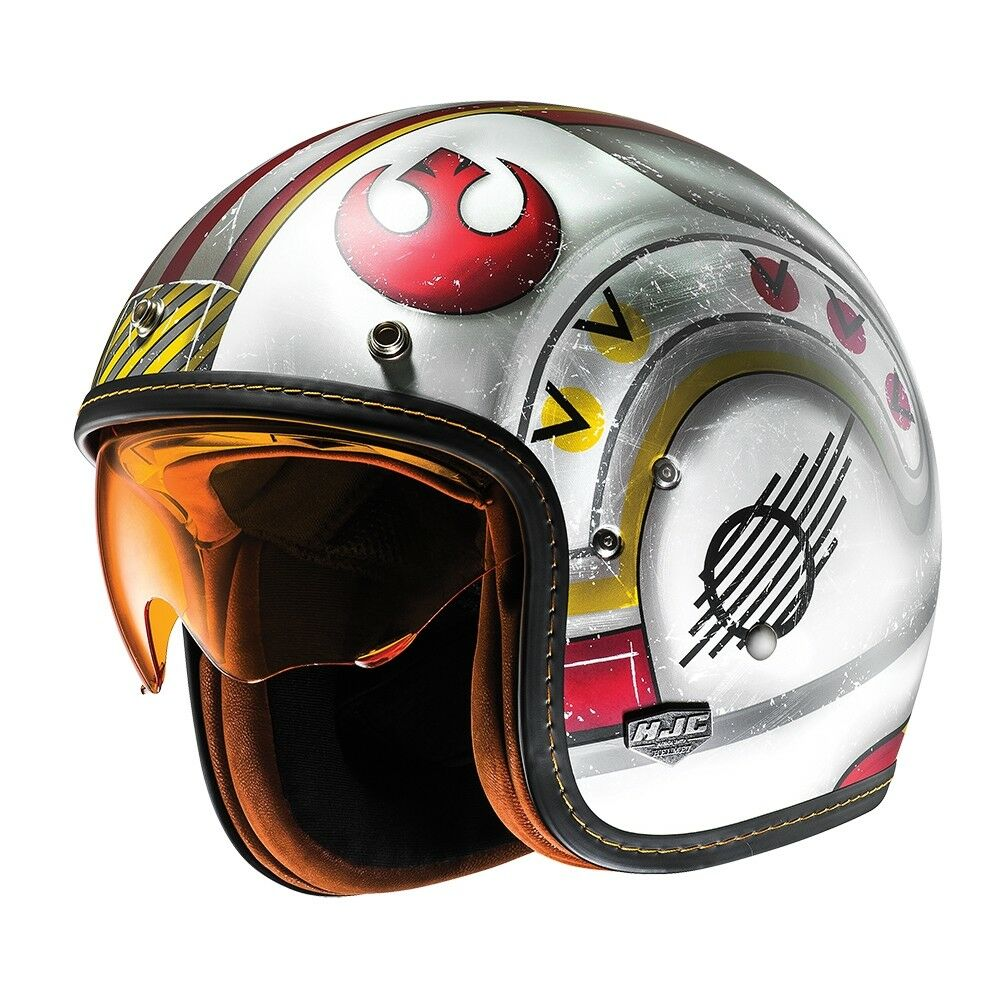with_helmet: (67, 97, 948, 885)
